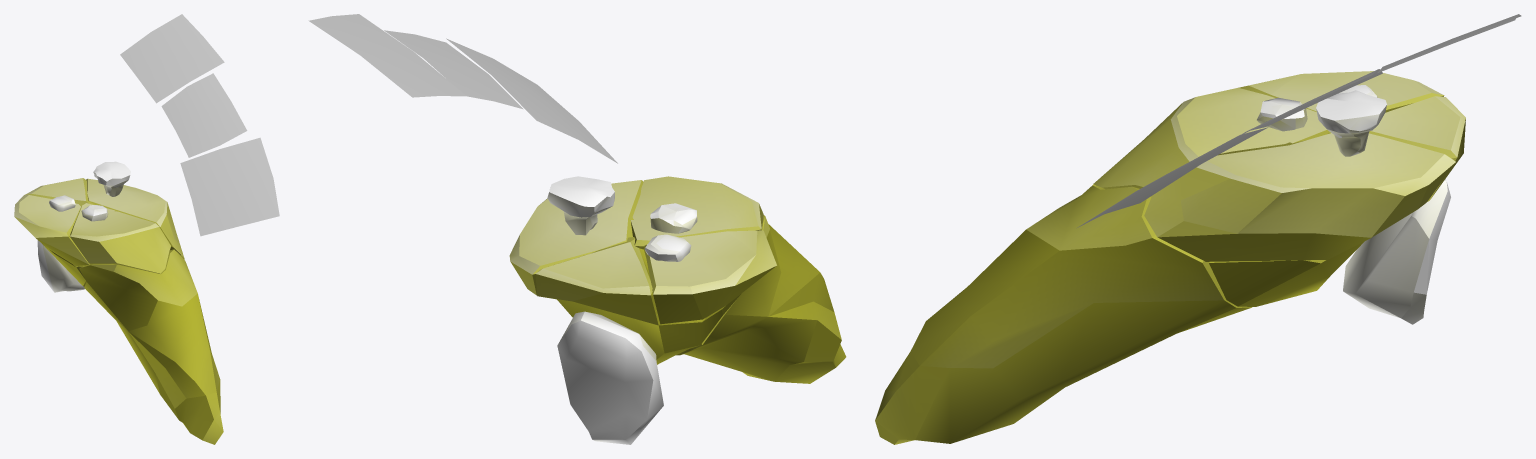
The model's file is UI_UpMidDownDisplay.fbx.
3 renders of one model, left to right at view 1: azimuth 30°, elevation 25°; view 2: azimuth 150°, elevation 25°; view 3: azimuth 270°, elevation 25°, orthographic. The views are drawn at different scales.
Parts seen in each view (by area): view 1: HandController_Nature_Dummy, ConUI_DownMesh, ConUI_UpMesh, ConUI_MidMesh; view 2: HandController_Nature_Dummy, ConUI_UpMesh, ConUI_DownMesh, ConUI_MidMesh; view 3: HandController_Nature_Dummy, ConUI_DownMesh, ConUI_MidMesh, ConUI_UpMesh.
Boxes of the visible parts, bbox=[...] form: HandController_Nature_Dummy: bbox=[14, 161, 223, 444]; ConUI_DownMesh: bbox=[180, 137, 279, 236]; ConUI_UpMesh: bbox=[120, 14, 224, 103]; ConUI_MidMesh: bbox=[161, 73, 247, 157]; HandController_Nature_Dummy: bbox=[509, 176, 846, 444]; ConUI_UpMesh: bbox=[308, 14, 466, 97]; ConUI_DownMesh: bbox=[446, 38, 617, 163]; ConUI_MidMesh: bbox=[384, 30, 523, 109]; HandController_Nature_Dummy: bbox=[875, 71, 1465, 444]; ConUI_DownMesh: bbox=[1076, 127, 1268, 228]; ConUI_MidMesh: bbox=[1240, 69, 1382, 135]; ConUI_UpMesh: bbox=[1377, 14, 1521, 72].
Size of the model in its own units: 8.86 by 11.19 by 12.06.
